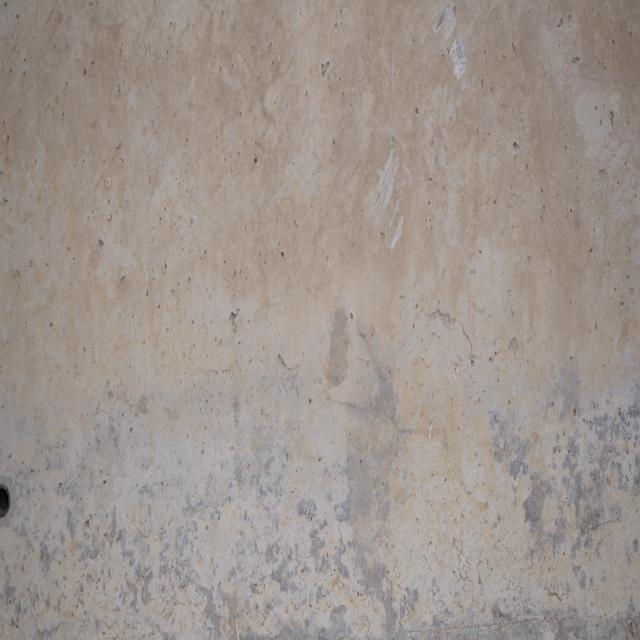diagonal crack: (417, 305, 525, 369)
horizontal crack: (204, 343, 301, 384)
